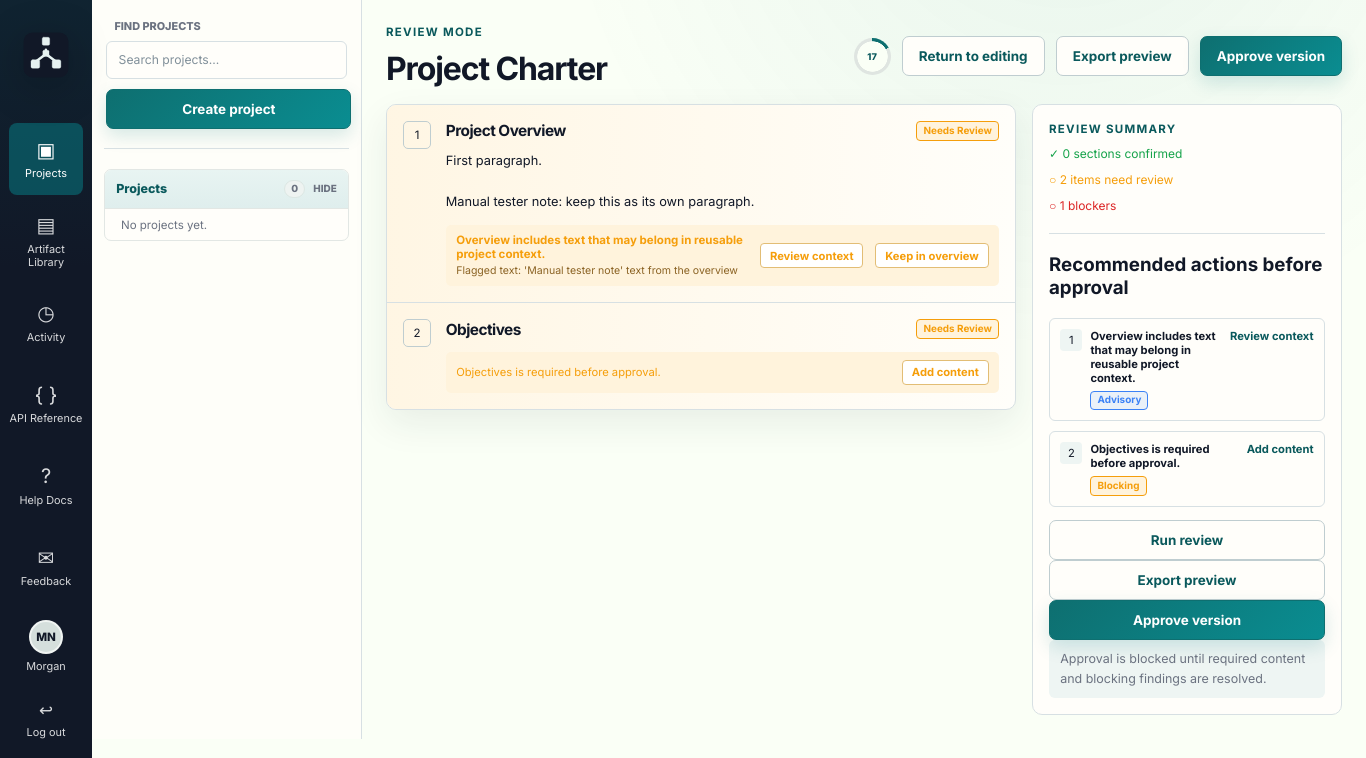
Test: React application shell › preserves read-only paragraph formatting in review mode and exposes blocked approval feedback
The image size is (1366, 758).
Expected: the text "First paragraph." has style "whiteSpace: pre-wrap", [446,153,754,209]
Expected: the number of buttons "Export preview" is 2, [1056,36,1189,76]; [1049,560,1325,600]
Step 1. Click the button "Approve version" in the row of "Return to editing" → (1271, 56), box [1200,36,1342,76]
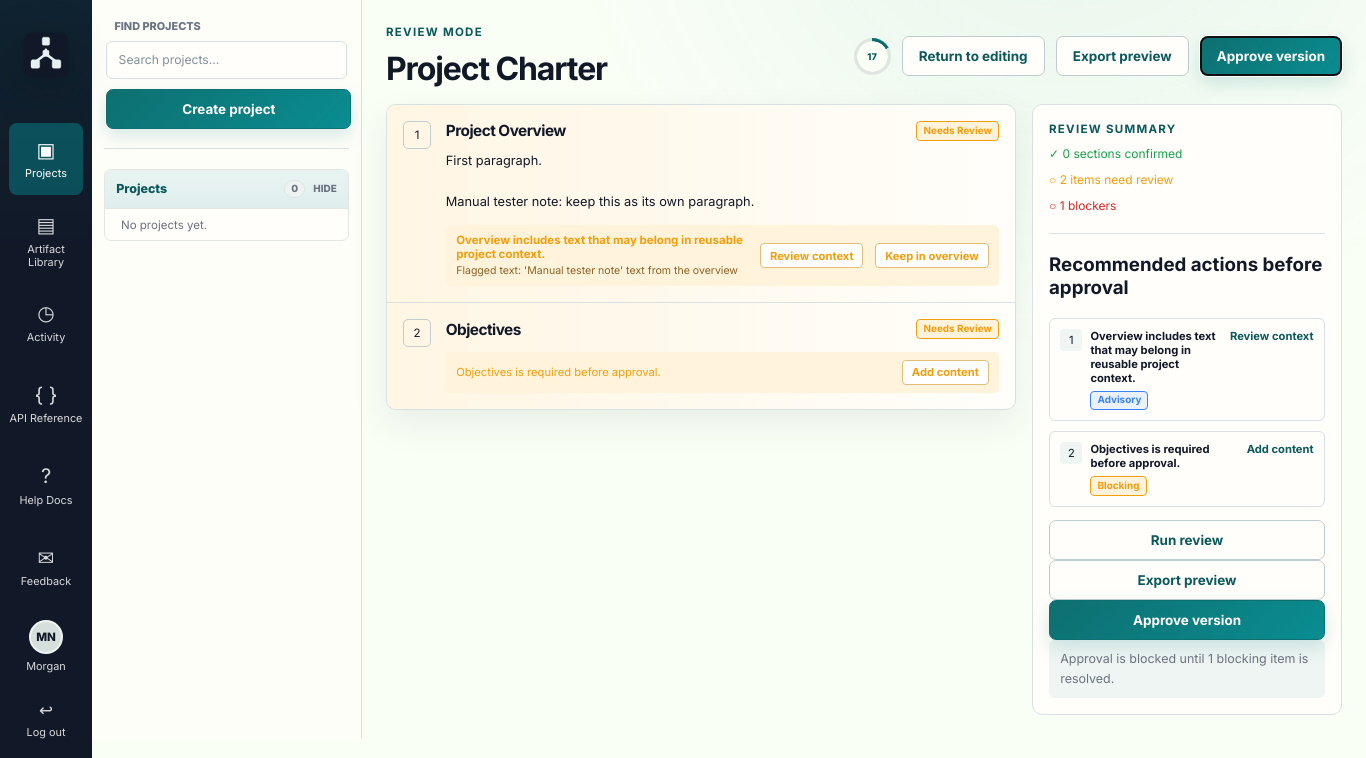
Expected: the link "Review context" below "Project Overview" is shown, [760,243,863,268]
Now the text "Approval is blocked until 1 blocking item is resolved." is shown, box [1049,640,1325,698]
Step 2. Click the button "Keep in overview" → (932, 256), box [875,243,989,268]
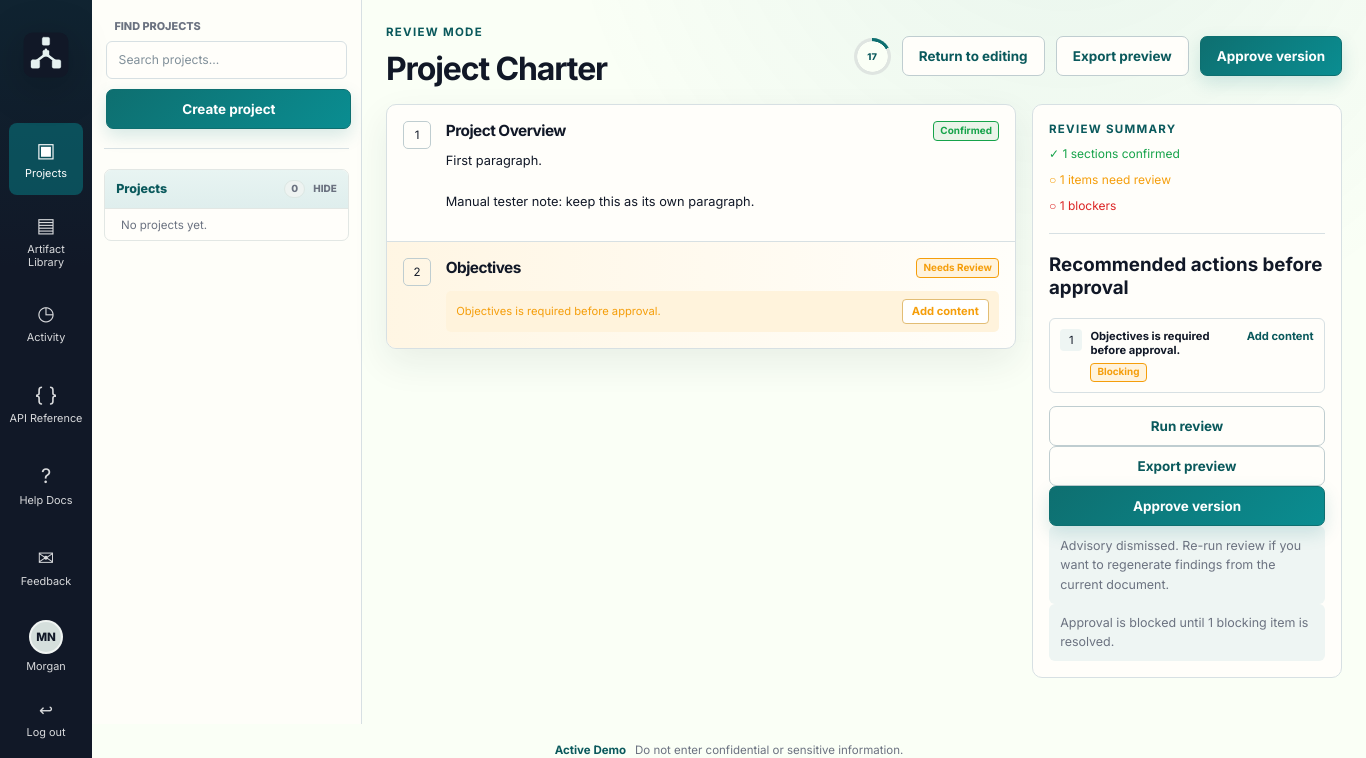
Now the text "Advisory dismissed. Re-run review if you want to regenerate findings from the current document." is shown, box [1060,538,1301,592]
